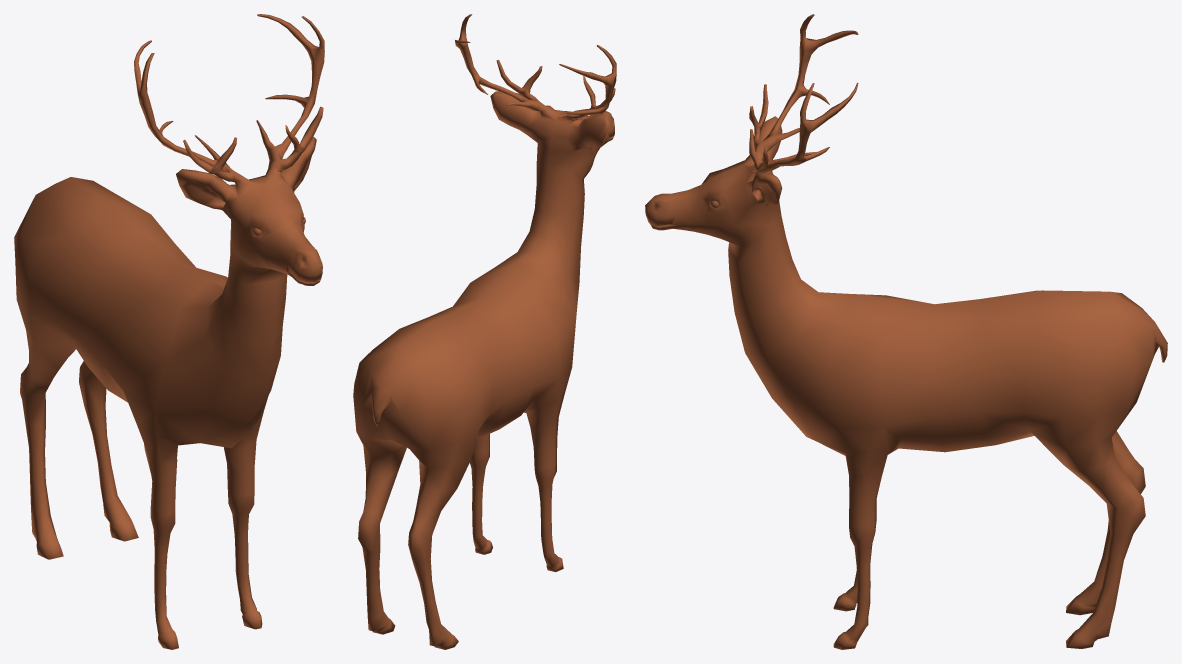
The model's file is Deer.fbx.
3 renders of one model, left to right at view 1: azimuth 30°, elevation 25°; view 2: azimuth 150°, elevation 25°; view 3: azimuth 270°, elevation 25°, orthographic. The views are drawn at different scales.
Parts seen in each view (by area): view 1: Deer; view 2: Deer; view 3: Deer.
Part boxes in pixels (bbox=[...]): Deer: bbox=[14, 14, 324, 649]; Deer: bbox=[353, 14, 616, 649]; Deer: bbox=[645, 14, 1167, 649].
Size of the model in its own units: 56.41 by 179 by 147.
